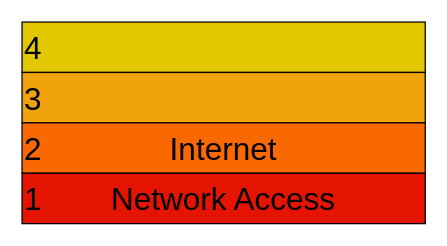
The diagram is 447 pixels wide and 246 high, and some of its shapes have lost their labels. Here are the shapes that lost their labels. From the top down, the box of each, then its label:
(21, 21, 425, 72): Application
(21, 71, 425, 123): Transport
